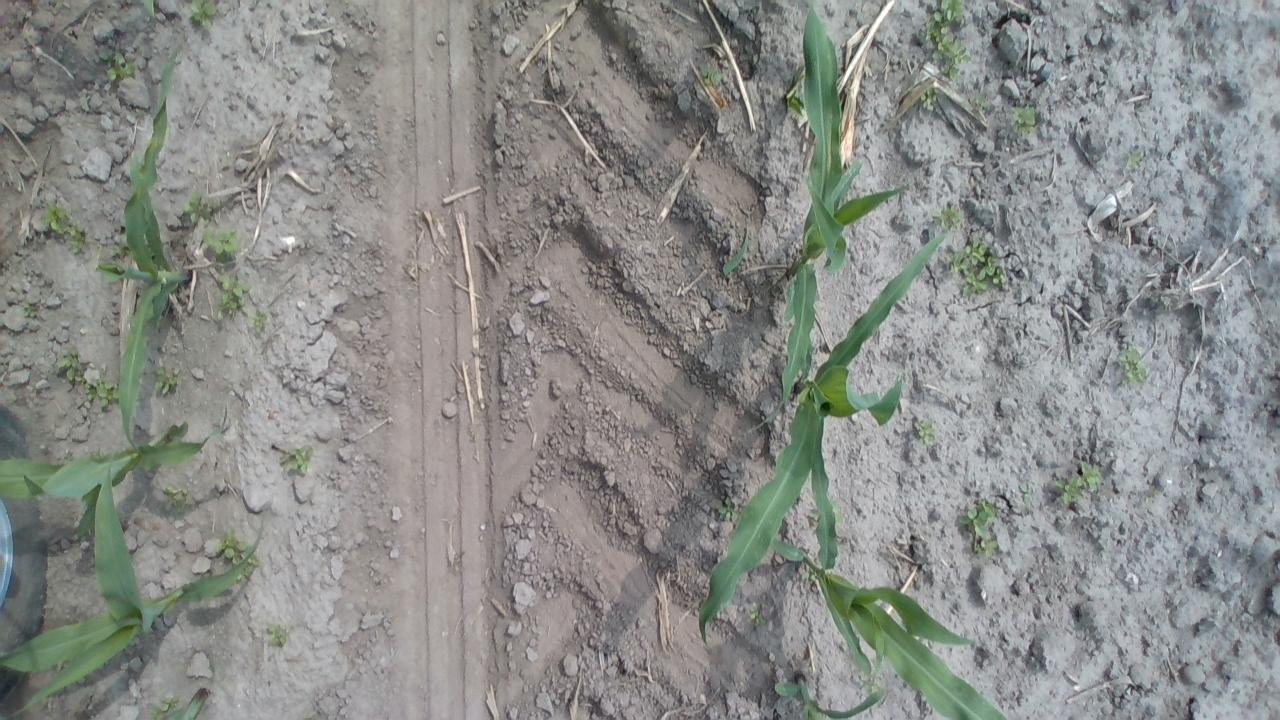Maize: (698, 220, 953, 650), (764, 401, 1024, 720), (742, 0, 916, 440), (0, 465, 268, 720), (91, 46, 197, 458), (0, 403, 237, 528), (770, 669, 887, 720), (162, 683, 212, 720)
Weeds: (54, 348, 124, 408), (946, 234, 1009, 300), (926, 0, 972, 78), (36, 204, 98, 255), (214, 274, 267, 333), (959, 496, 1002, 556), (1054, 460, 1106, 508), (215, 530, 261, 580), (276, 442, 316, 479), (203, 228, 242, 264), (1117, 345, 1149, 386), (160, 482, 197, 516), (148, 366, 182, 400), (190, 0, 225, 33), (926, 201, 962, 233), (104, 52, 140, 84), (1008, 103, 1041, 137), (180, 193, 214, 226), (143, 693, 182, 720), (265, 622, 293, 652), (1014, 481, 1042, 508), (910, 417, 936, 445), (968, 92, 996, 115), (1122, 148, 1147, 172), (701, 63, 725, 88), (746, 603, 766, 630), (919, 86, 938, 114), (718, 495, 738, 521), (20, 302, 39, 321)
